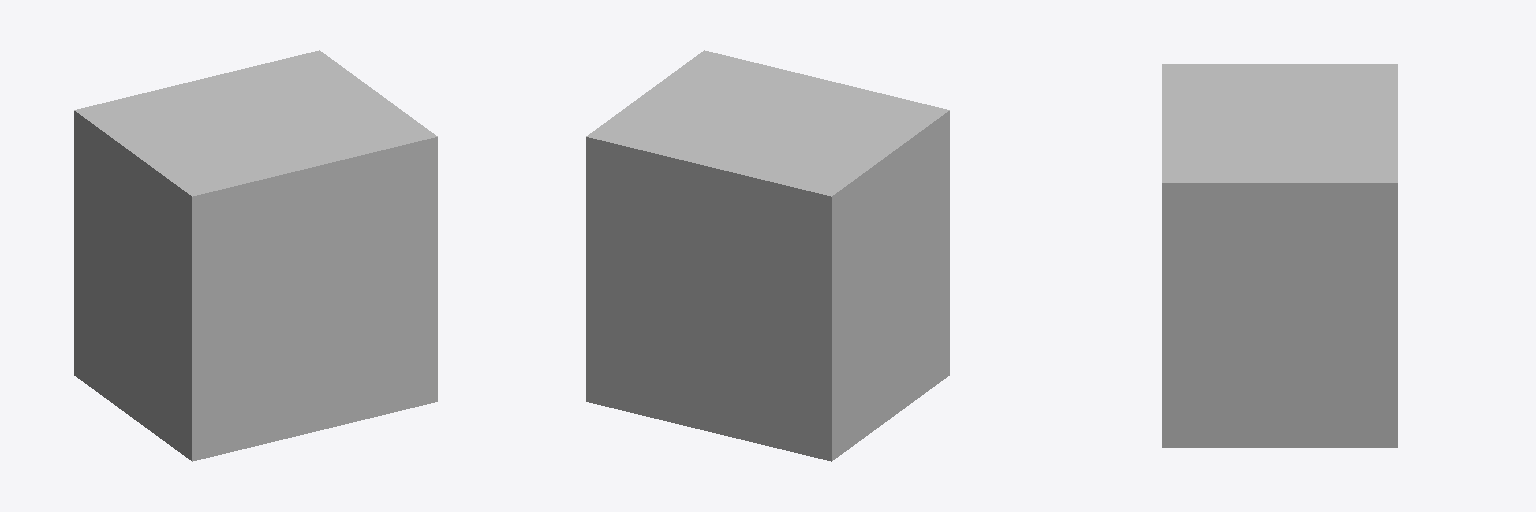
The model's file is cocinaintegralabajo1.obj.
3 views of the same model, side by side, from view 1: azimuth 30°, elevation 25°; view 2: azimuth 150°, elevation 25°; view 3: azimuth 270°, elevation 25° (orthographic).
Visible parts, largest first — view 1: fridge1:fridge1:pCube3; view 2: fridge1:fridge1:pCube3; view 3: fridge1:fridge1:pCube3.
Boxes of the visible parts, box(x1,y1,x2,y2) form: fridge1:fridge1:pCube3: box(74, 50, 437, 461); fridge1:fridge1:pCube3: box(586, 50, 949, 461); fridge1:fridge1:pCube3: box(1162, 64, 1397, 447).
Bounding box in the file's own units: 0.6 × 0.6185 × 0.4997.